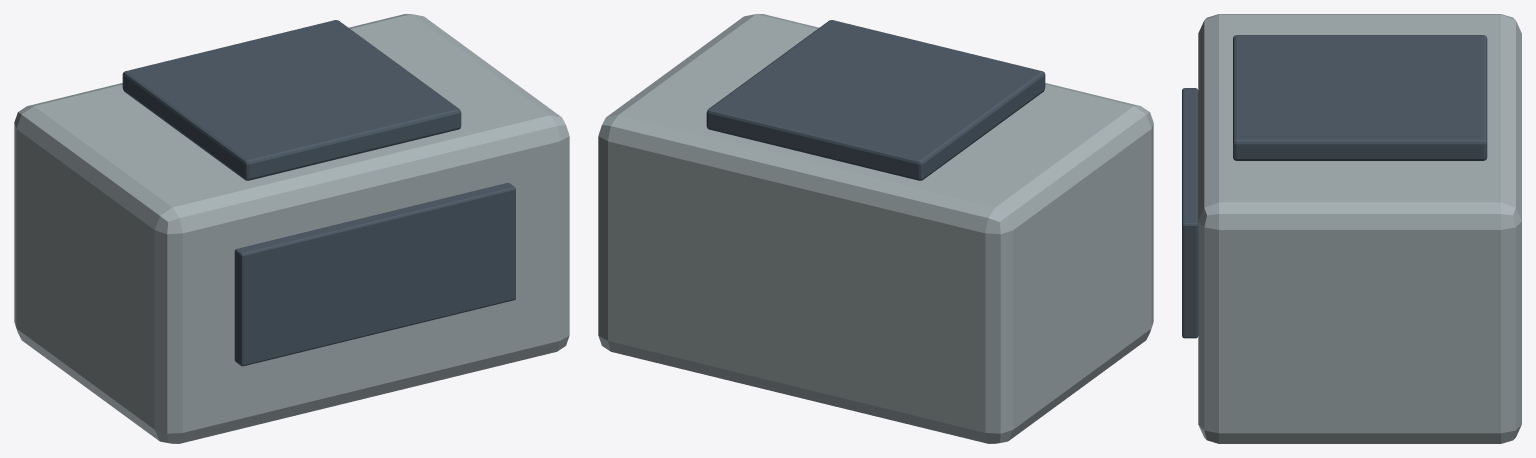
File: rooftop_hvac.glb
The picture shows the model from 3 angles, left to right: view 1: azimuth 30°, elevation 25°; view 2: azimuth 150°, elevation 25°; view 3: azimuth 270°, elevation 25°; orthographic projection.
Parts seen in each view (by area): view 1: hvac_body, hvac_grille, hvac_fan; view 2: hvac_body, hvac_fan; view 3: hvac_body, hvac_fan, hvac_grille.
Part boxes in pixels (box(x1,y1,x2,y2)): hvac_body: box(14, 14, 569, 443); hvac_grille: box(234, 183, 515, 366); hvac_fan: box(122, 20, 461, 180); hvac_body: box(598, 14, 1153, 443); hvac_fan: box(706, 20, 1045, 180); hvac_body: box(1198, 14, 1521, 443); hvac_fan: box(1233, 35, 1487, 160); hvac_grille: box(1182, 88, 1198, 338).
Size of the model in its own units: 0.42 by 0.25 by 0.294.
